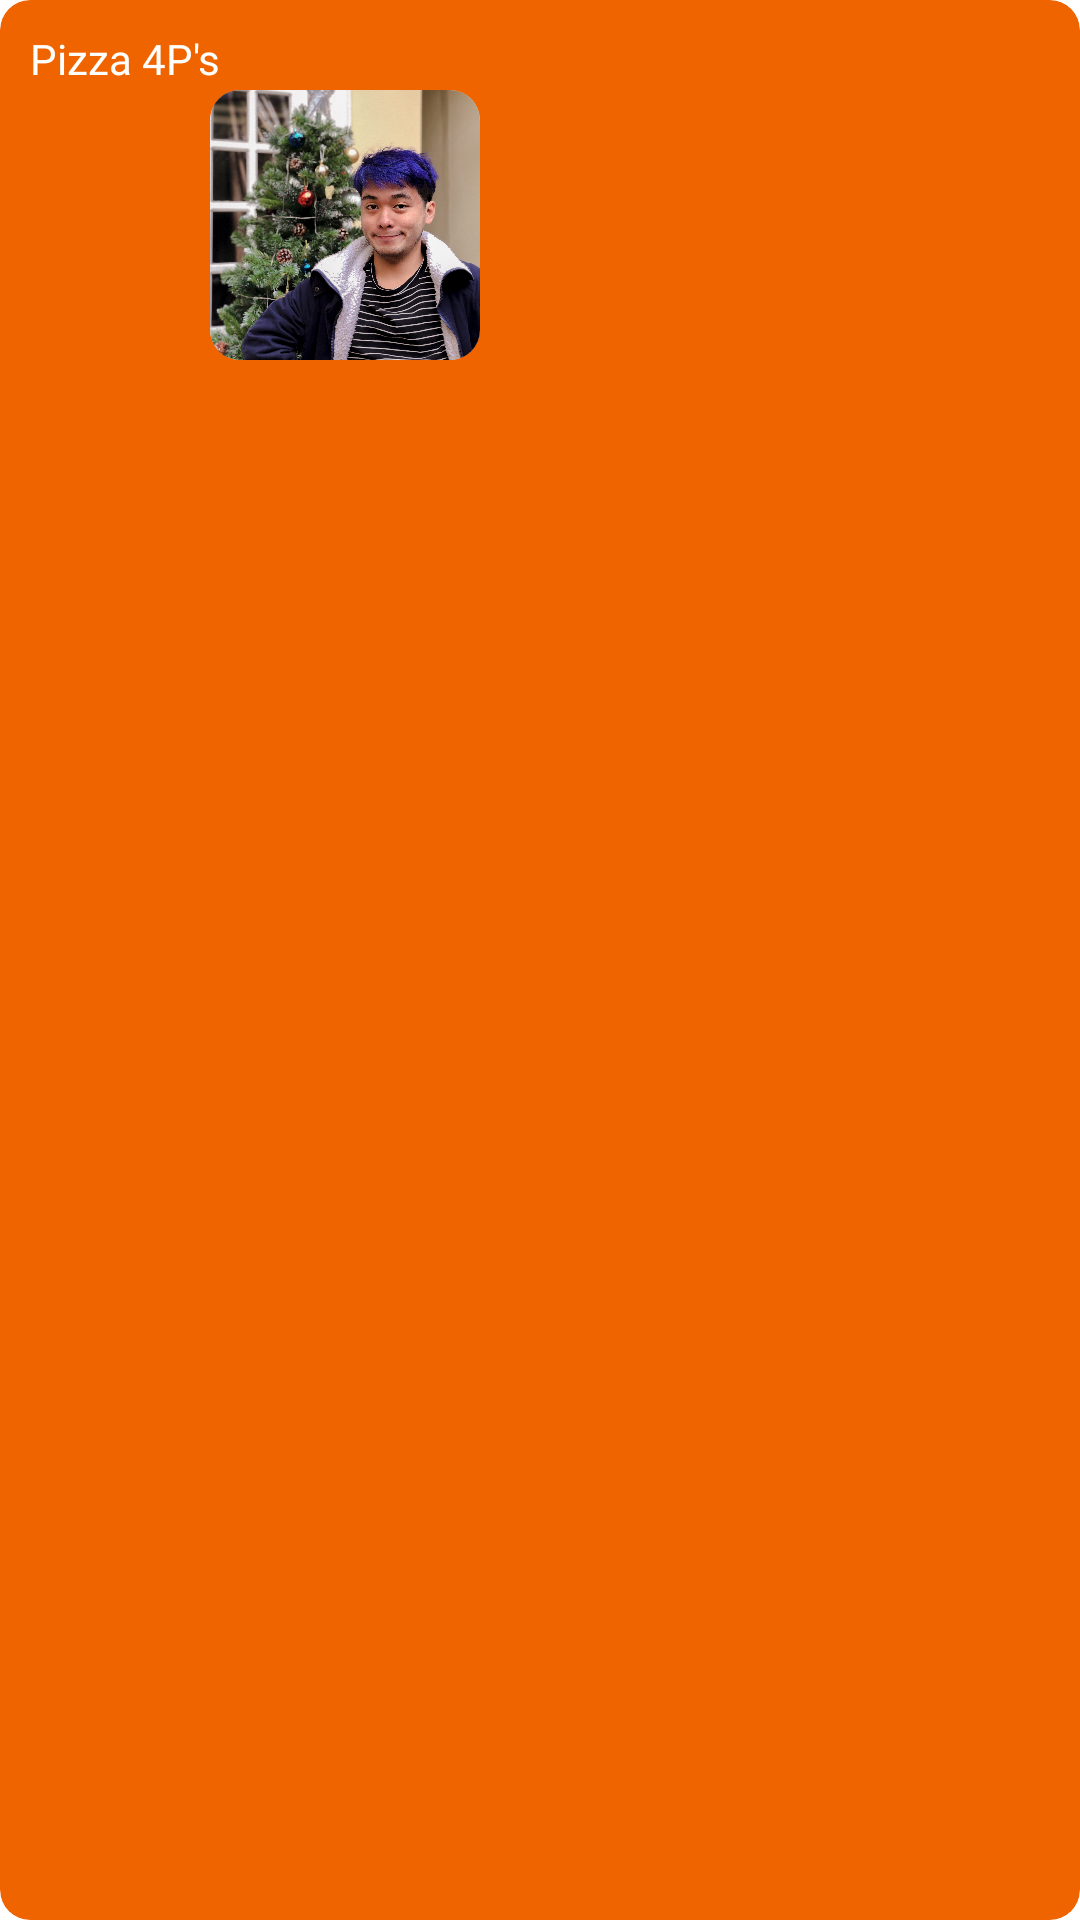

Icons on this 1080px×1920px Android screen, each with its box as BBox(x1, y1, x2, y2):
slack pic: BBox(210, 90, 480, 360)
